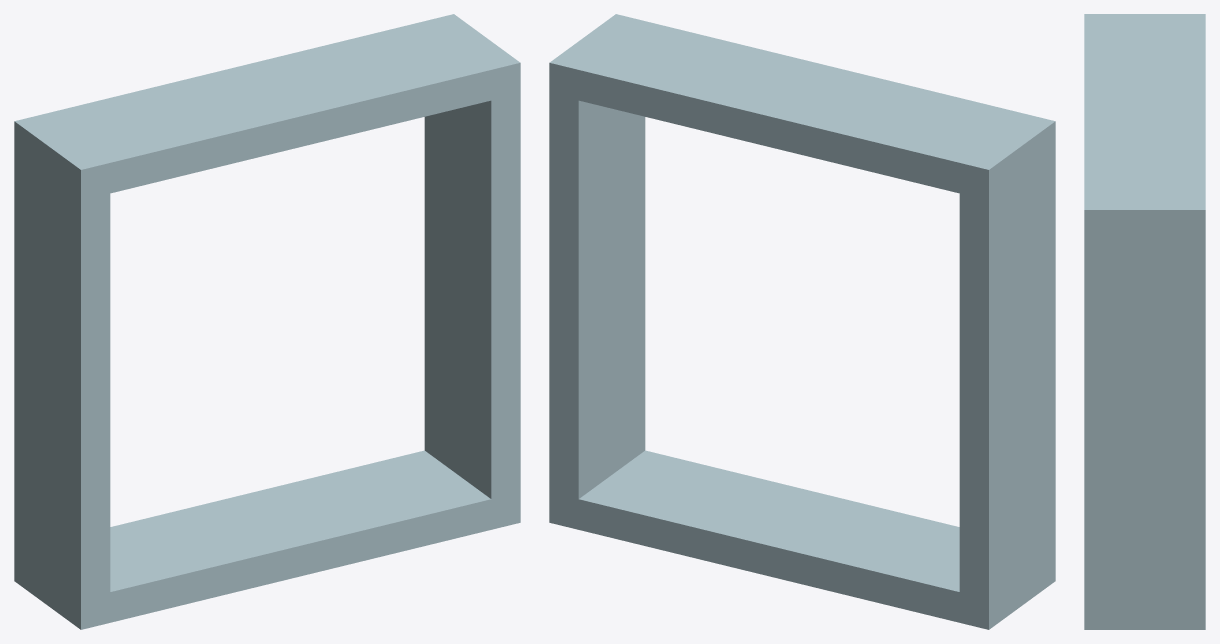
File: window-01.glb
The picture shows the model from 3 angles, left to right: view 1: azimuth 30°, elevation 25°; view 2: azimuth 150°, elevation 25°; view 3: azimuth 270°, elevation 25°; orthographic projection. The views are drawn at different scales.
Parts seen in each view (by area): view 1: Box001(min30); view 2: Box001(min30); view 3: Box001(min30).
Boxes of the visible parts, x1,y1,x2,y2 form: Box001(min30): (14,14,520,629); Box001(min30): (549,14,1055,629); Box001(min30): (1084,14,1205,629).
Size of the model in its own units: 0.762 by 0.762 by 0.2.
